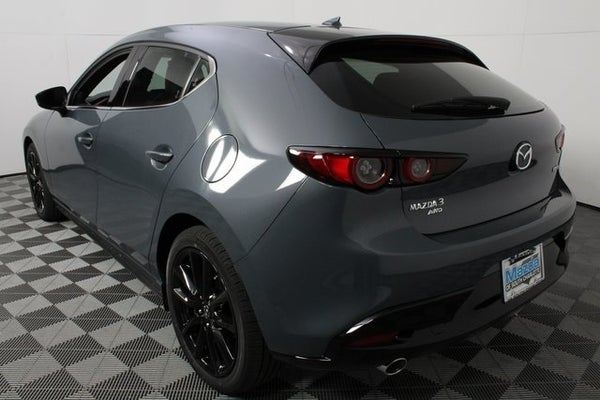Mazda3 Hatchback: (18, 11, 589, 395)
